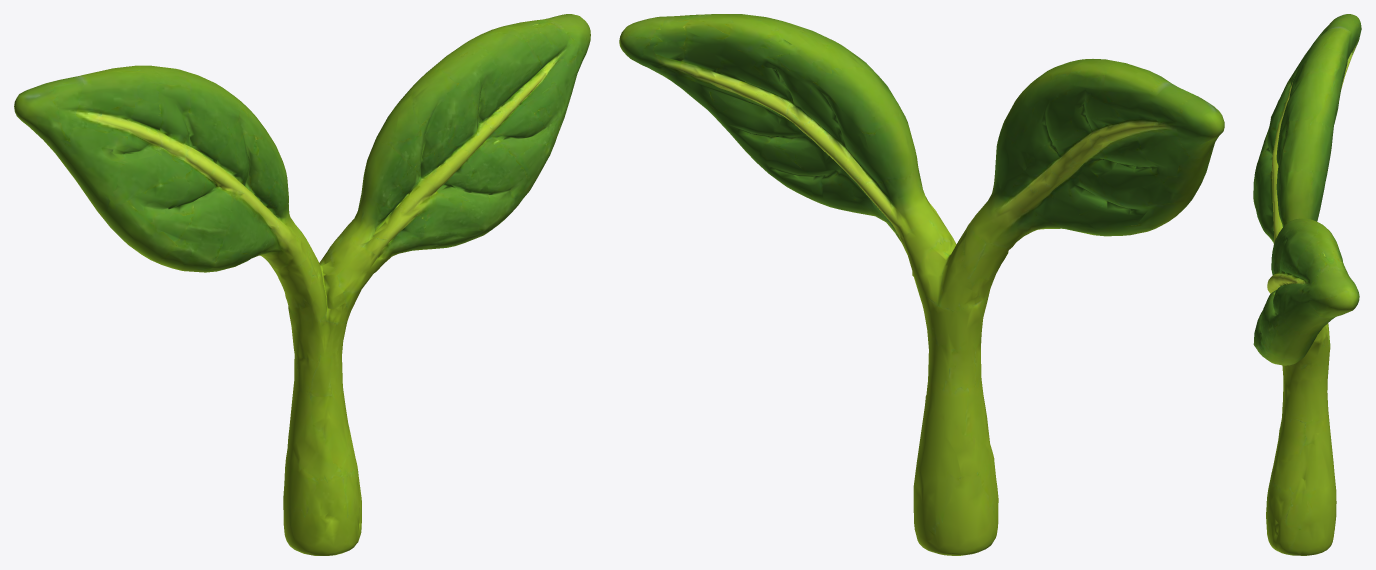
File: pepper-sprout.glb
3 renders of one model, left to right at view 1: azimuth 30°, elevation 25°; view 2: azimuth 150°, elevation 25°; view 3: azimuth 270°, elevation 25°, orthographic. The views are drawn at different scales.
Size of the model in its own units: 1.9 by 1.61 by 0.3693.
1 material, 1 textured.
